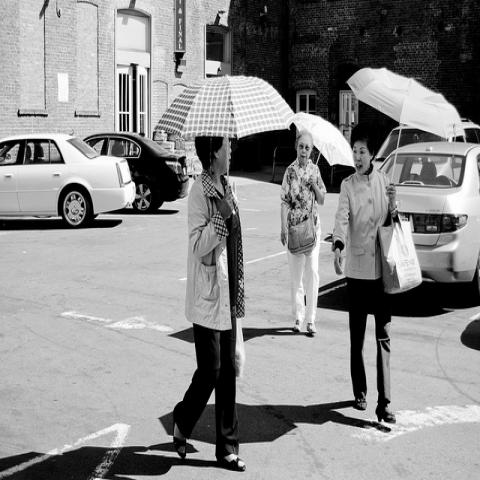car: (378, 141, 479, 299), (0, 135, 139, 224), (87, 127, 190, 217), (370, 126, 450, 178), (448, 122, 479, 147)
